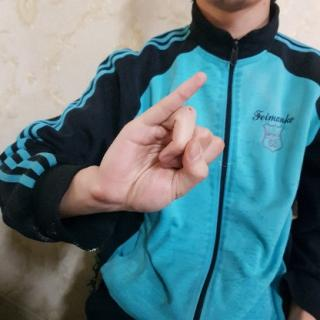MEEM: (91, 69, 229, 212)
